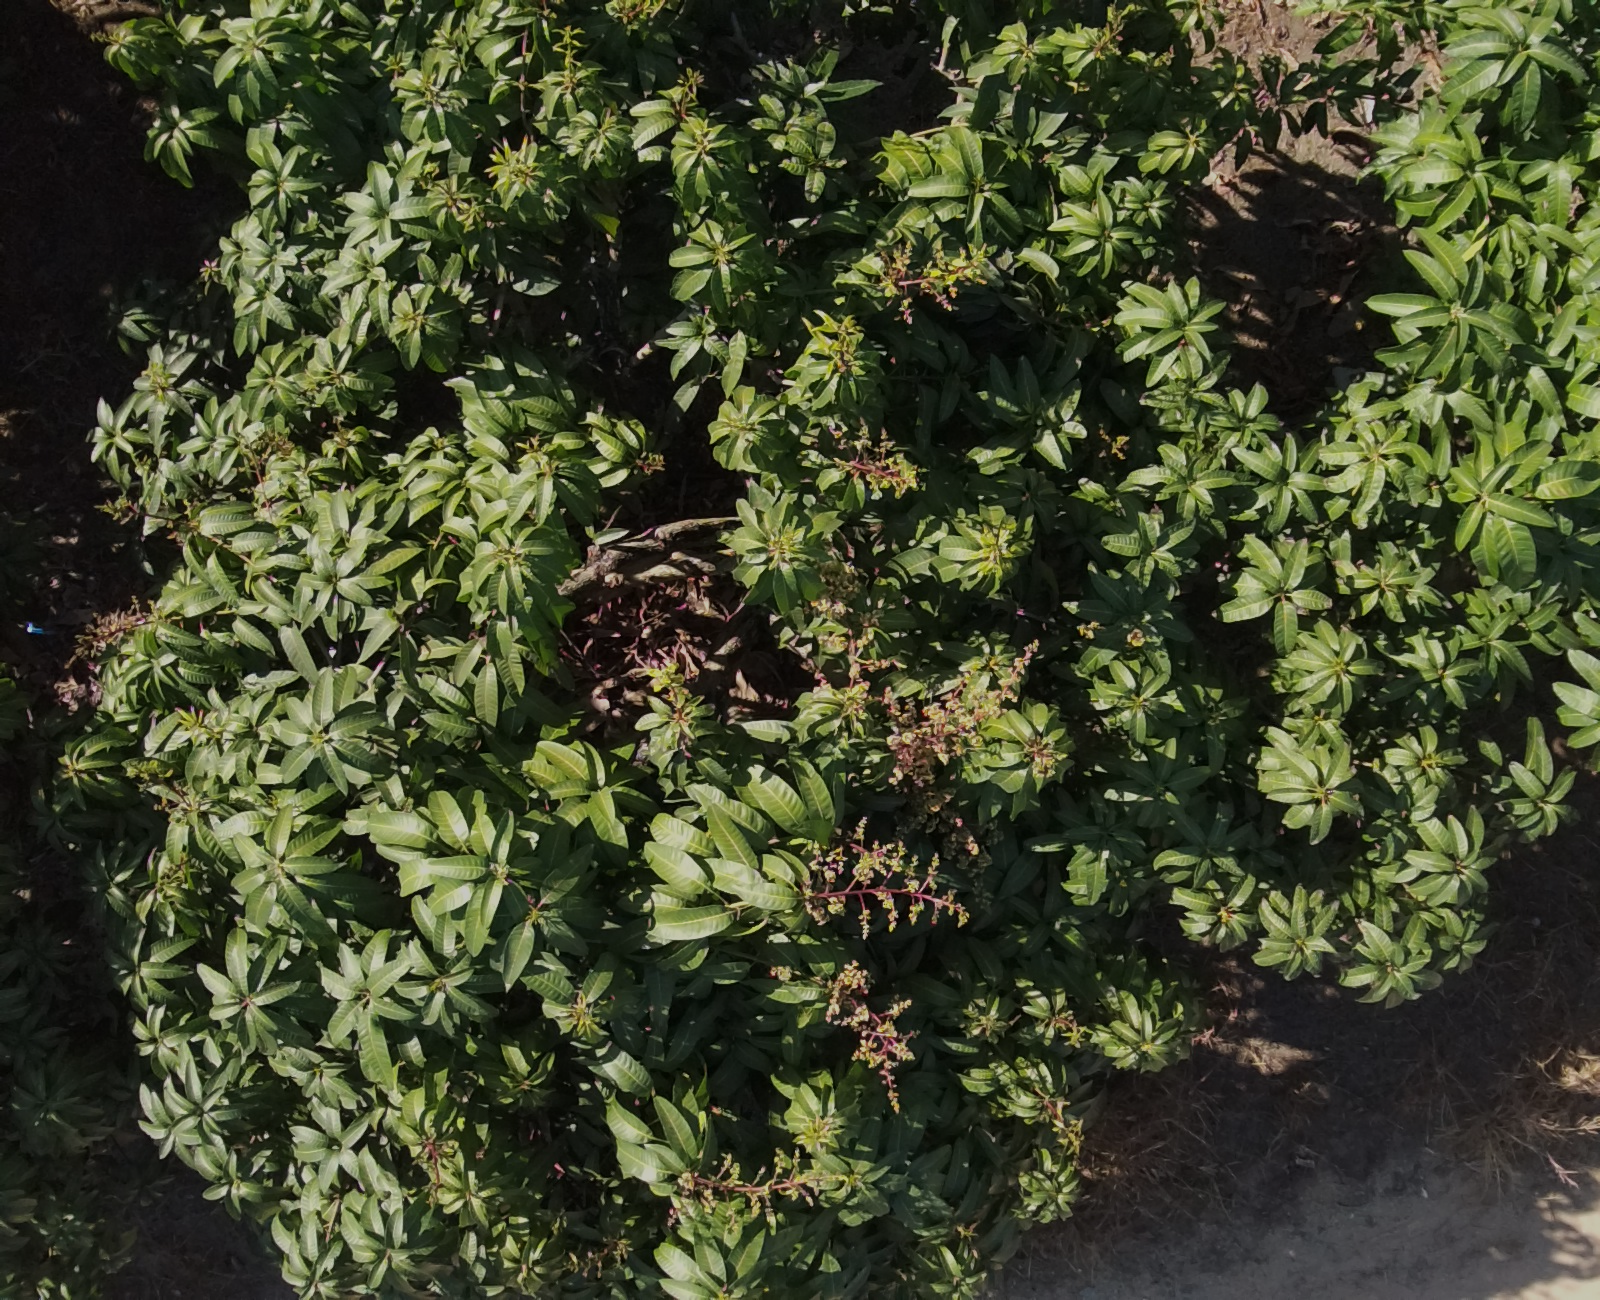flowers: (882, 639, 1037, 791), (803, 820, 968, 938), (673, 1149, 873, 1224), (821, 962, 917, 1112), (880, 245, 988, 322), (832, 424, 919, 496)
